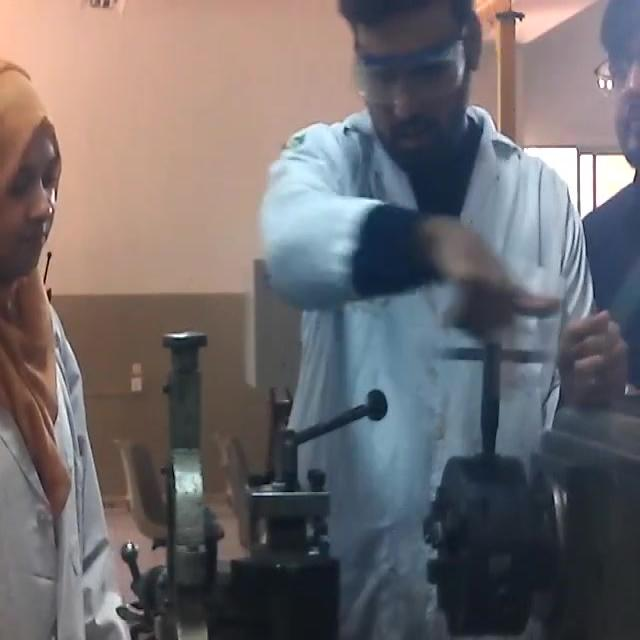googles: (350, 32, 471, 98)
labcoat: (255, 110, 595, 635), (0, 300, 118, 640)
